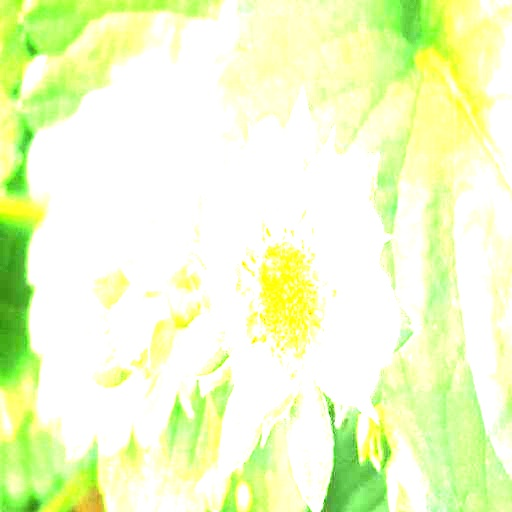Blossom Blight: (229, 203, 345, 380)
